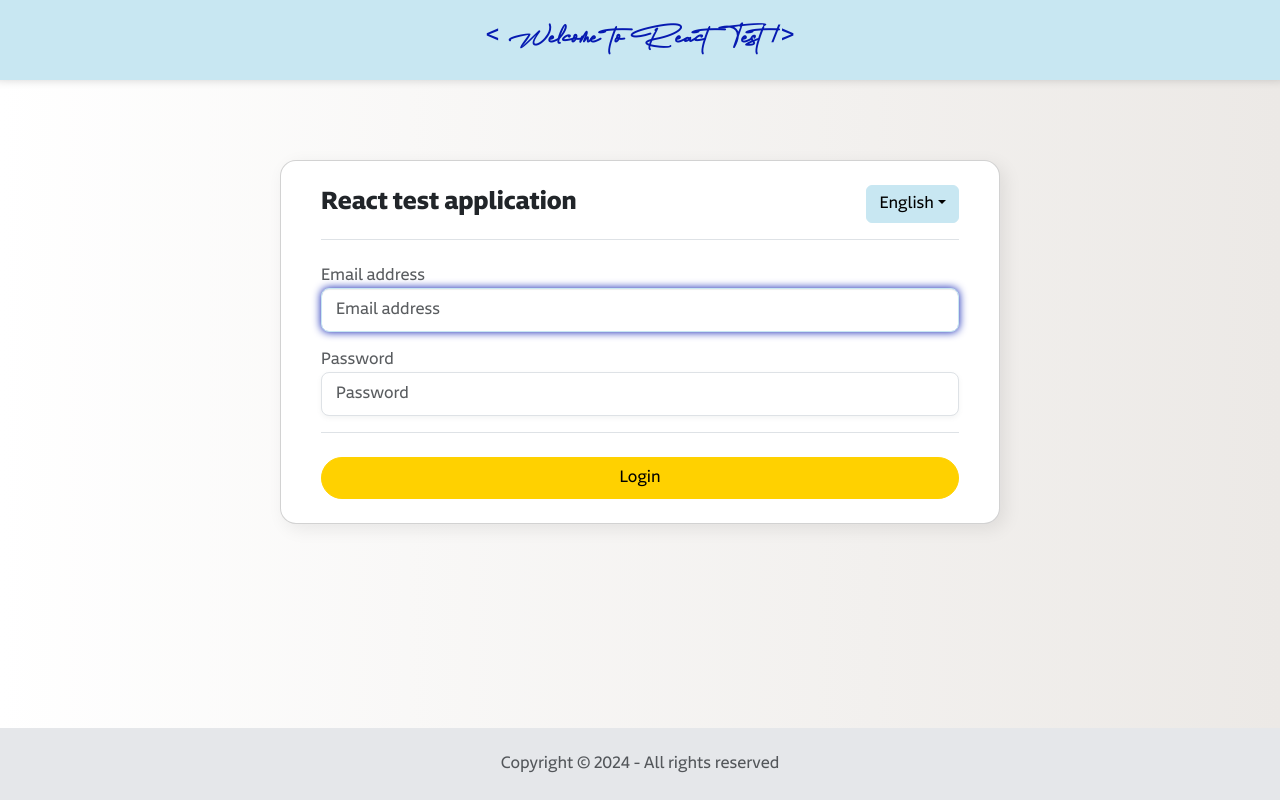
Test case: Login › should show error messages for required fields
The width and height of the screenshot is (1280, 800).
What coordinates should you click on to do the following:
click the submit button
I would click on:
 (640, 478)
Its box is x1=321 y1=457 x2=959 y2=499.
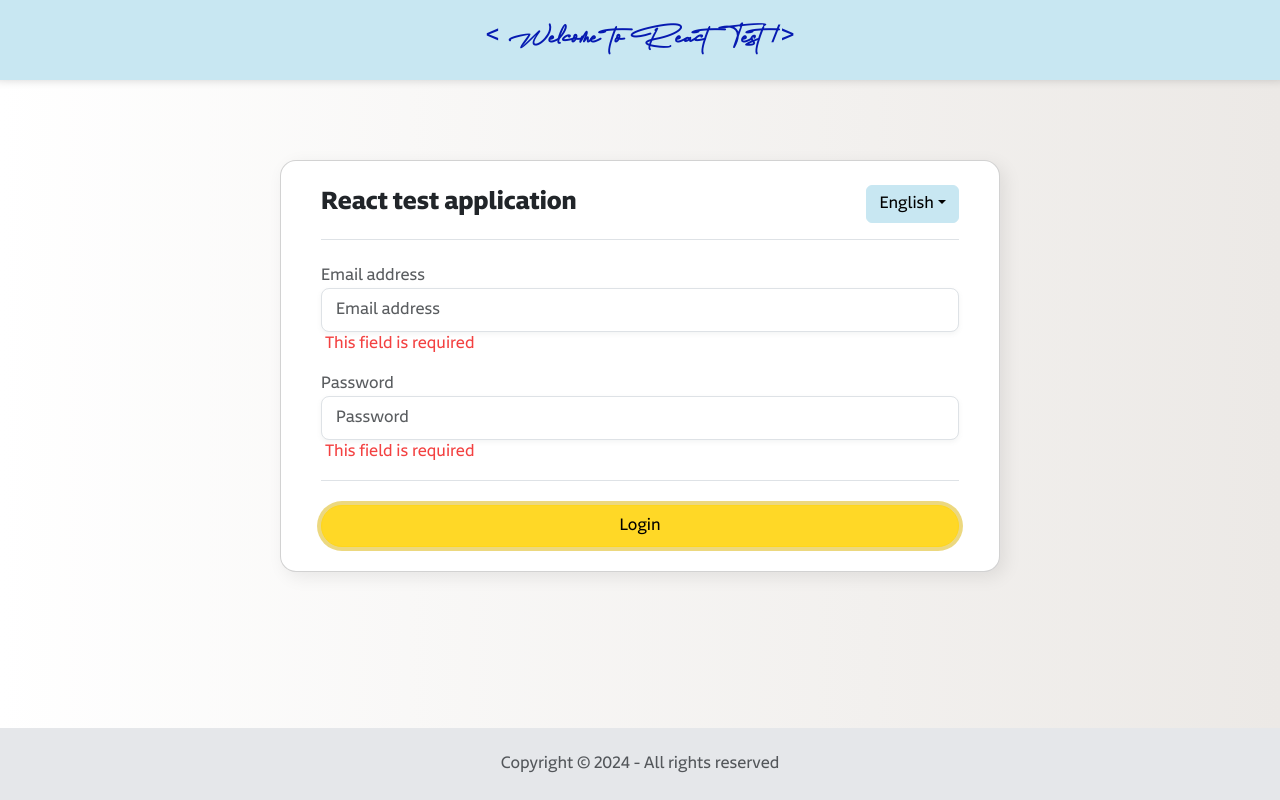
Now the text "This field is required" below "Email address" is shown, box x1=325 y1=336 x2=475 y2=352
